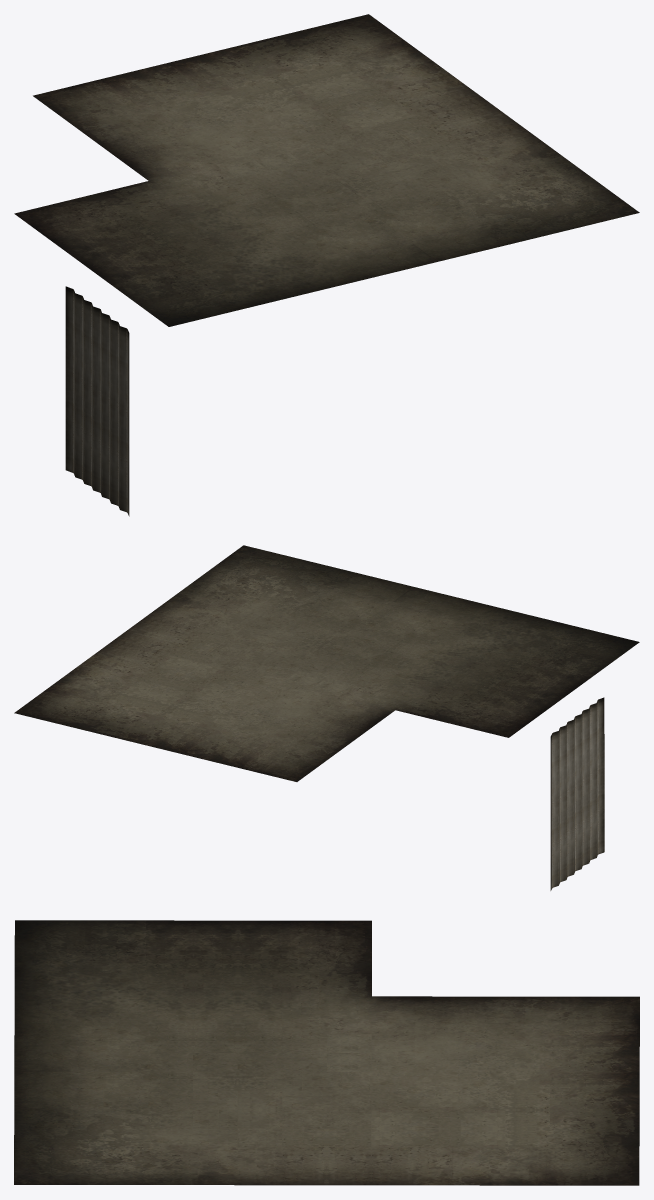
Rendered from Room3.obj.
3 views of the same model, one above another, from view 1: azimuth 30°, elevation 25°; view 2: azimuth 150°, elevation 25°; view 3: azimuth 270°, elevation 25° (orthographic). The views are drawn at different scales.
Parts seen in each view (by area): view 1: Room3; view 2: Room3; view 3: Room3.
Part boxes in pixels (bbox=[...]): Room3: bbox=[14, 14, 639, 516]; Room3: bbox=[14, 545, 639, 890]; Room3: bbox=[14, 920, 639, 1185].
Bounding box in the file's own units: 59.13 × 26.36 × 59.11.
